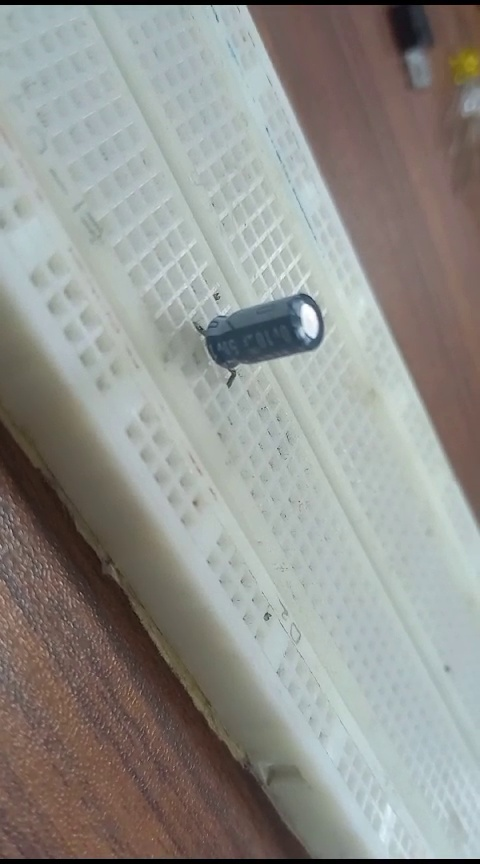capacitor: (184, 284, 335, 383)
